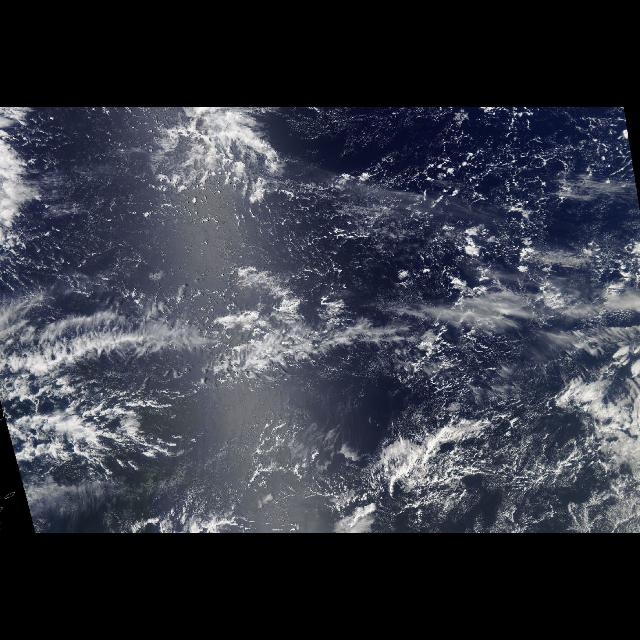Fish: (2, 293, 440, 402)
Gravel: (209, 112, 639, 382)
